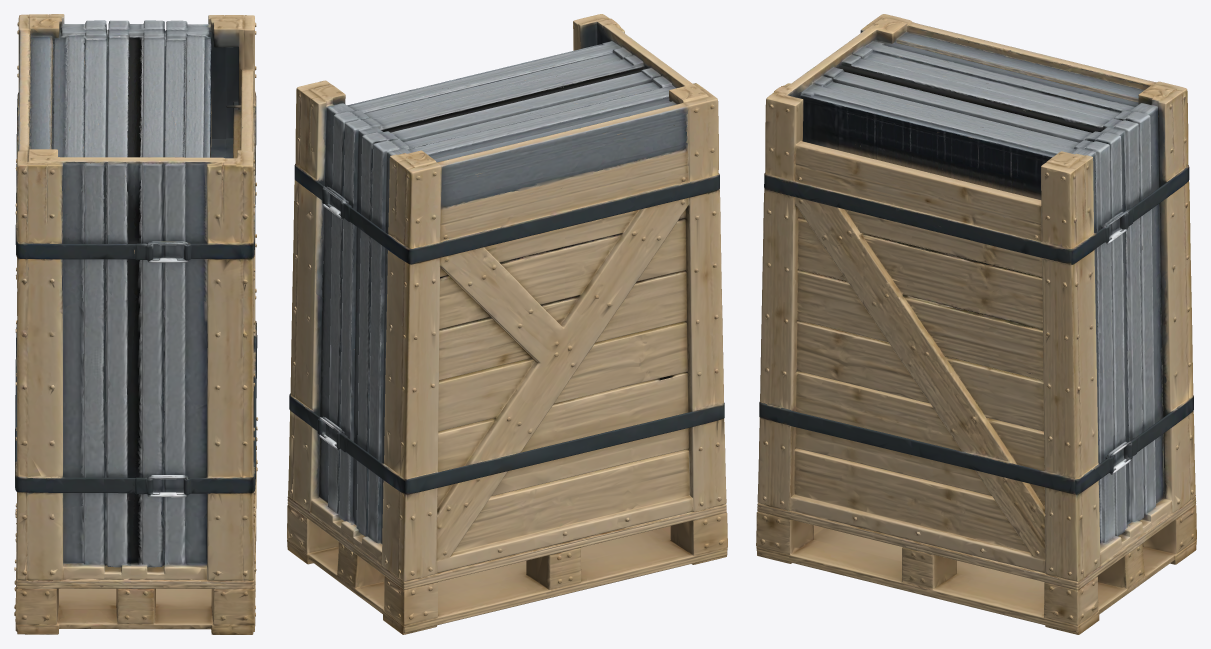
The model's file is crate.glb.
3 renders of one model, left to right at view 1: azimuth 30°, elevation 25°; view 2: azimuth 150°, elevation 25°; view 3: azimuth 270°, elevation 25°, orthographic.
Parts seen in each view (by area): view 1: tripo_node_52b56451-6ab7-4396-ac56-0e72af89dd61; view 2: tripo_node_52b56451-6ab7-4396-ac56-0e72af89dd61; view 3: tripo_node_52b56451-6ab7-4396-ac56-0e72af89dd61.
Boxes of the visible parts, <box> form: tripo_node_52b56451-6ab7-4396-ac56-0e72af89dd61: <box>14,14,257,634</box>; tripo_node_52b56451-6ab7-4396-ac56-0e72af89dd61: <box>287,14,727,634</box>; tripo_node_52b56451-6ab7-4396-ac56-0e72af89dd61: <box>756,14,1196,634</box>.
Size of the model in its own units: 24628 by 32056 by 27711.
1 material, 1 textured.
